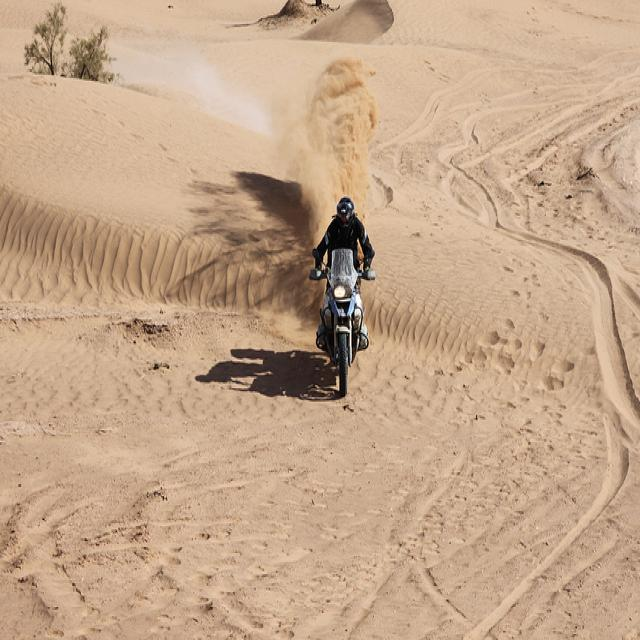motor: (317, 248, 375, 397)
